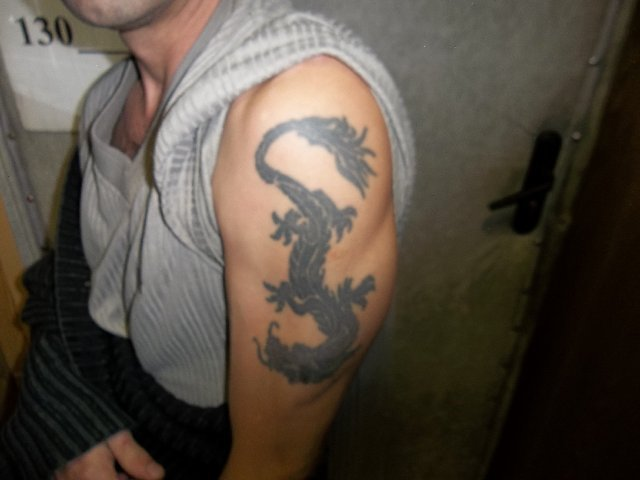tatu6_drakon: (254, 116, 378, 392)
